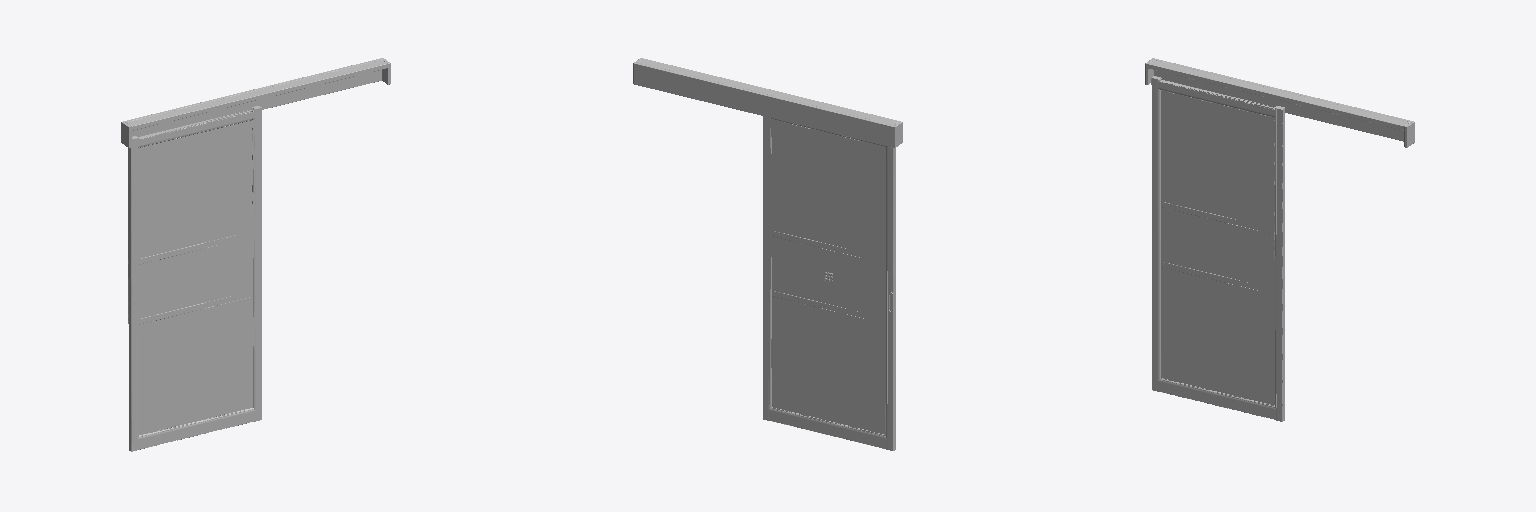
The model's file is Door N110520.obj.
3 renders of one model, left to right at view 1: azimuth 30°, elevation 25°; view 2: azimuth 150°, elevation 25°; view 3: azimuth 330°, elevation 25°, orthographic.
Visible parts, largest first — view 1: __________________GDLM3_____________, __________________GDLM2_W__2, __________________GDLM4_CHROME08; view 2: __________________GDLM3_____________, __________________GDLM2_W__2, __________________GDLM4_CHROME08; view 3: __________________GDLM3_____________, __________________GDLM2_W__2, __________________GDLM4_CHROME08.
Boxes of the visible parts, x1=… form: __________________GDLM3_____________: x1=139, y1=121, x2=252, y2=434; __________________GDLM2_W__2: x1=121, y1=58, x2=390, y2=451; __________________GDLM4_CHROME08: x1=139, y1=231, x2=253, y2=324; __________________GDLM3_____________: x1=772, y1=120, x2=885, y2=433; __________________GDLM2_W__2: x1=633, y1=58, x2=902, y2=450; __________________GDLM4_CHROME08: x1=772, y1=230, x2=892, y2=323; __________________GDLM3_____________: x1=1161, y1=91, x2=1274, y2=404; __________________GDLM2_W__2: x1=1145, y1=58, x2=1414, y2=421; __________________GDLM4_CHROME08: x1=1161, y1=201, x2=1276, y2=293.
Size of the model in its own units: 1842 by 2200 by 92.11.